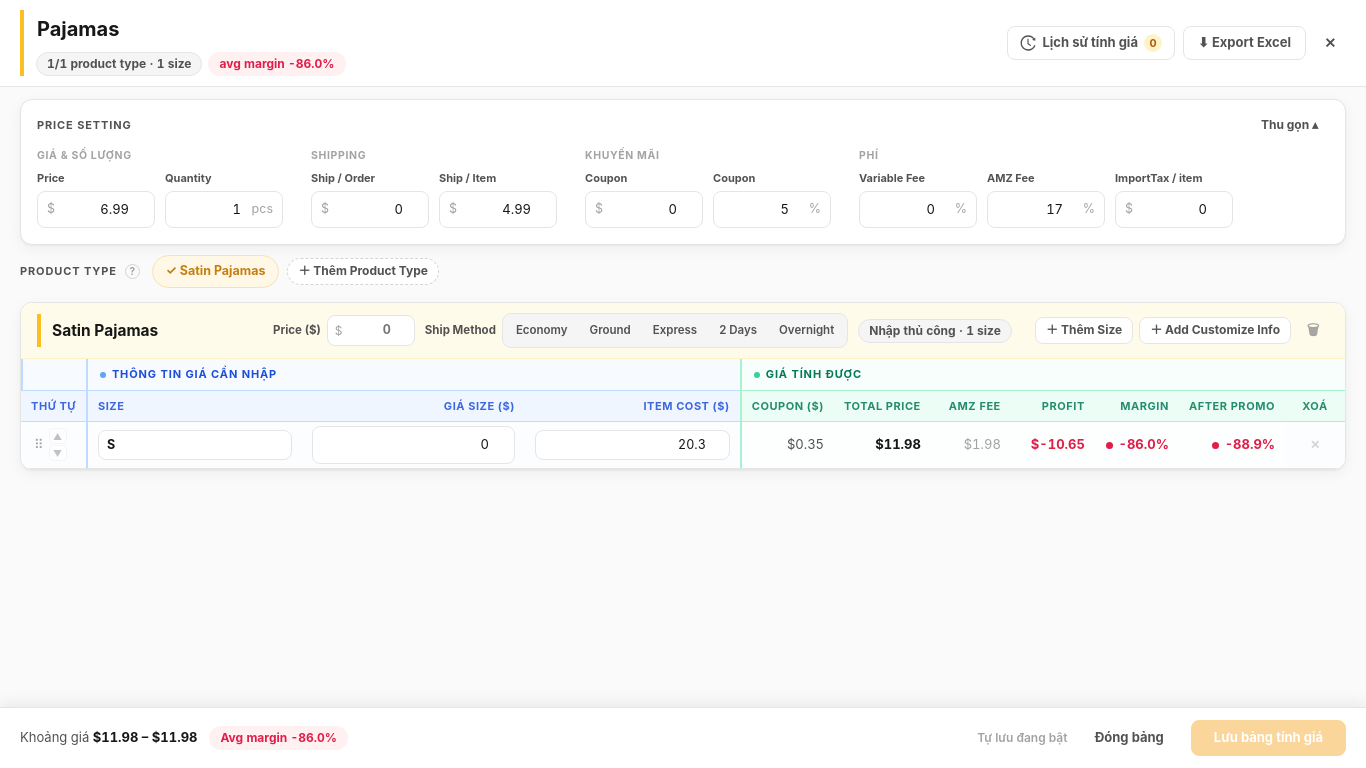
đóng bảng › chưa lên được server → HỎI trước, không đóng ngay
The width and height of the screenshot is (1366, 768).
Replace the text in the field named "Tên bảng tính giá" with "Pajamas v2" at (190, 29), box x1=28 y1=10 x2=352 y2=48
Wait 3000 ms
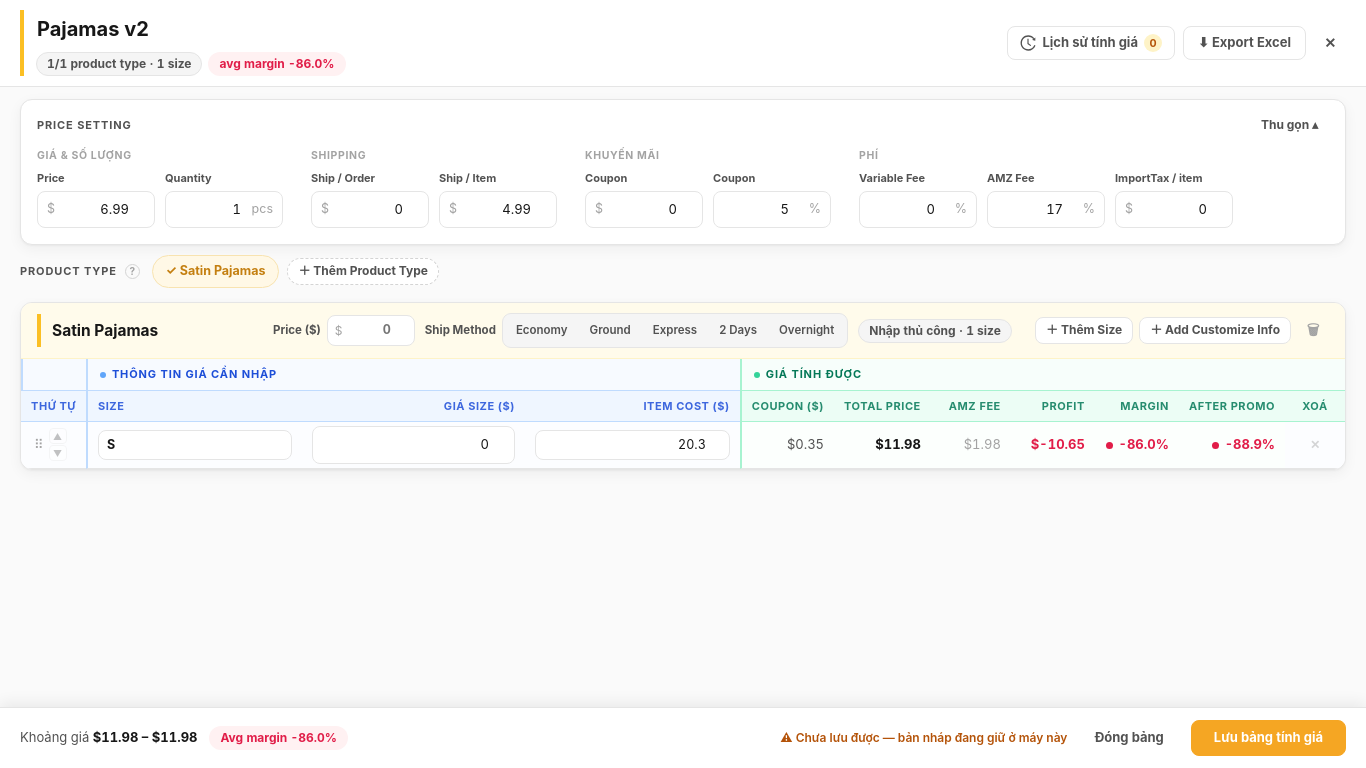
Click the button "Đóng bảng" at (1129, 738), box x1=1079 y1=721 x2=1179 y2=755
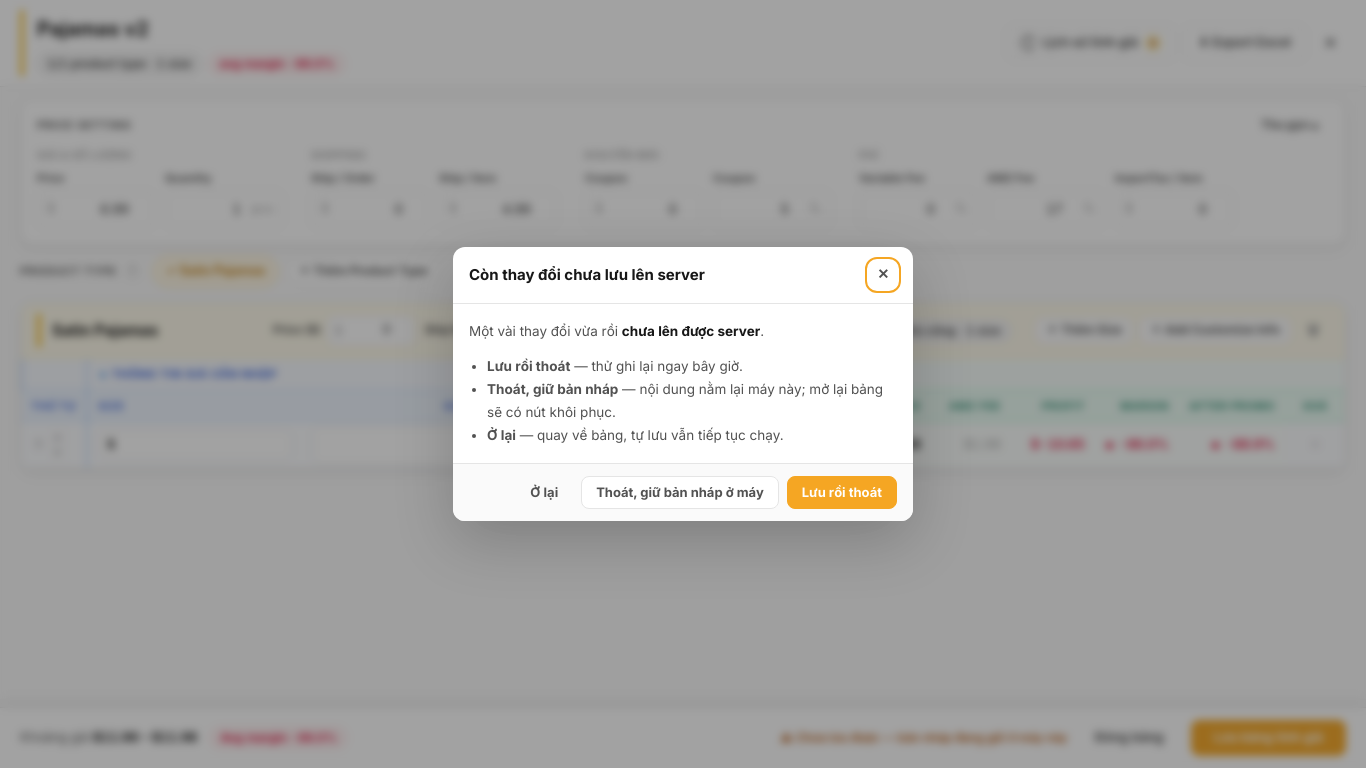
Now the text "Còn thay đổi chưa lưu lên server" is shown, box x1=469 y1=264 x2=705 y2=286
